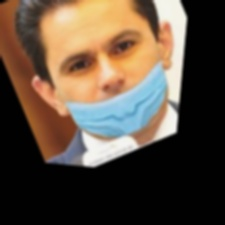mask_weared_incorrect: (45, 1, 166, 135)
